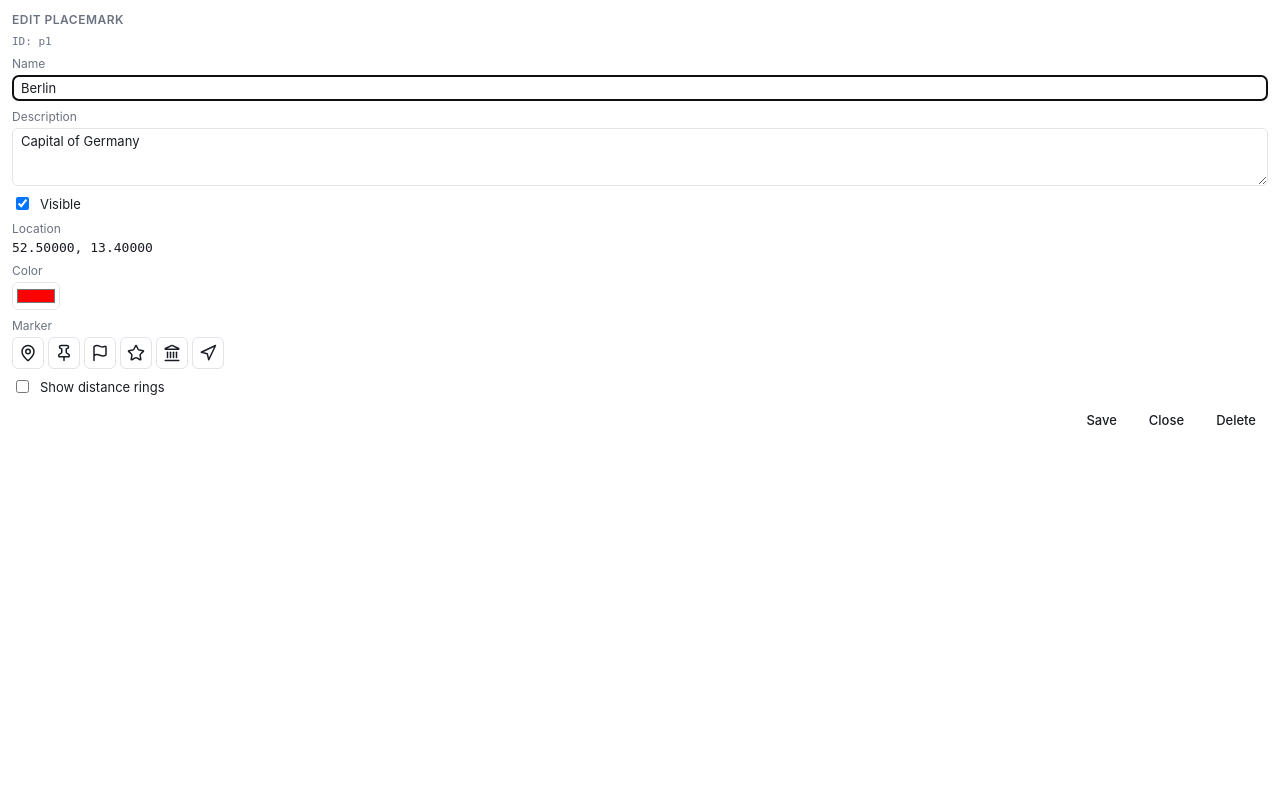
Test: PlacemarkEditor - close confirmation › Cancel dismisses the dialog and keeps editing
Type " Trip" into the field labelled "Name" at {"x": 640, "y": 88}, box [12,75,1268,101]
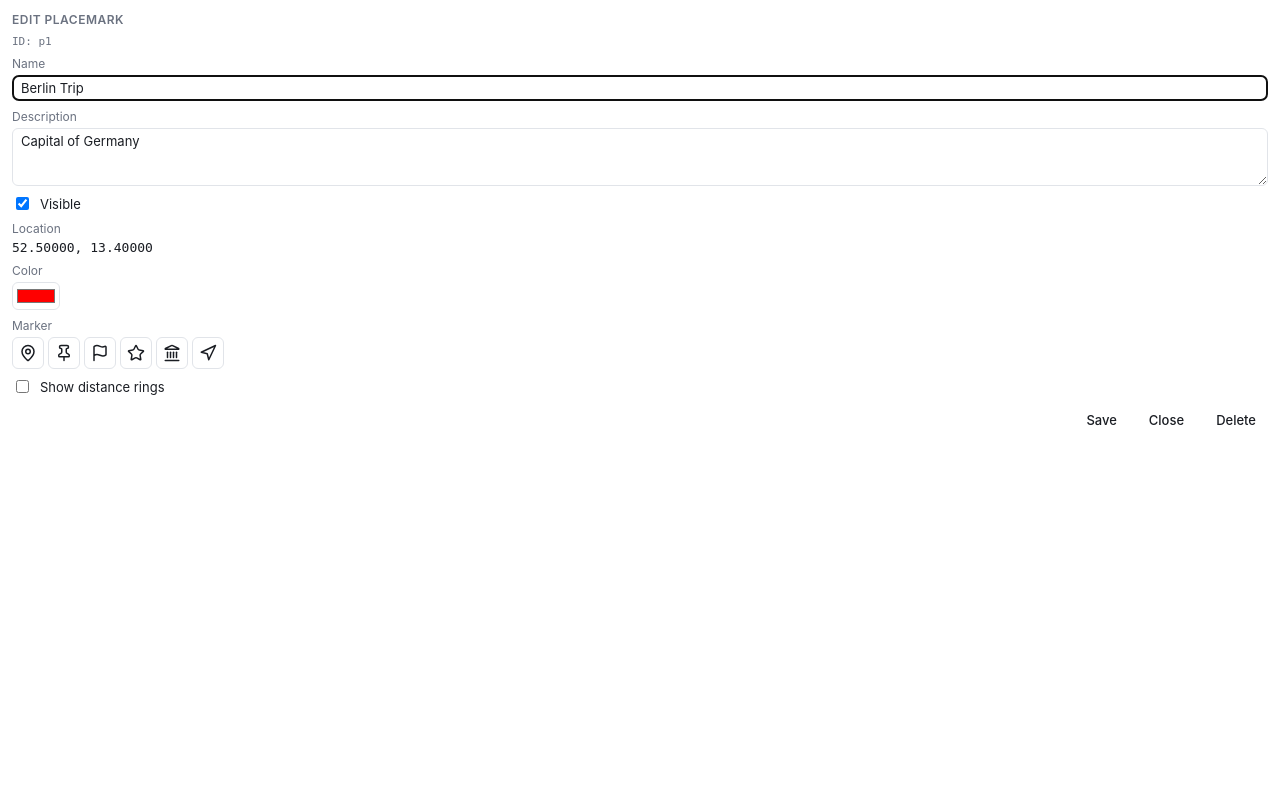
Click the button "Close" at {"x": 1166, "y": 420}, box [1137,404,1196,436]
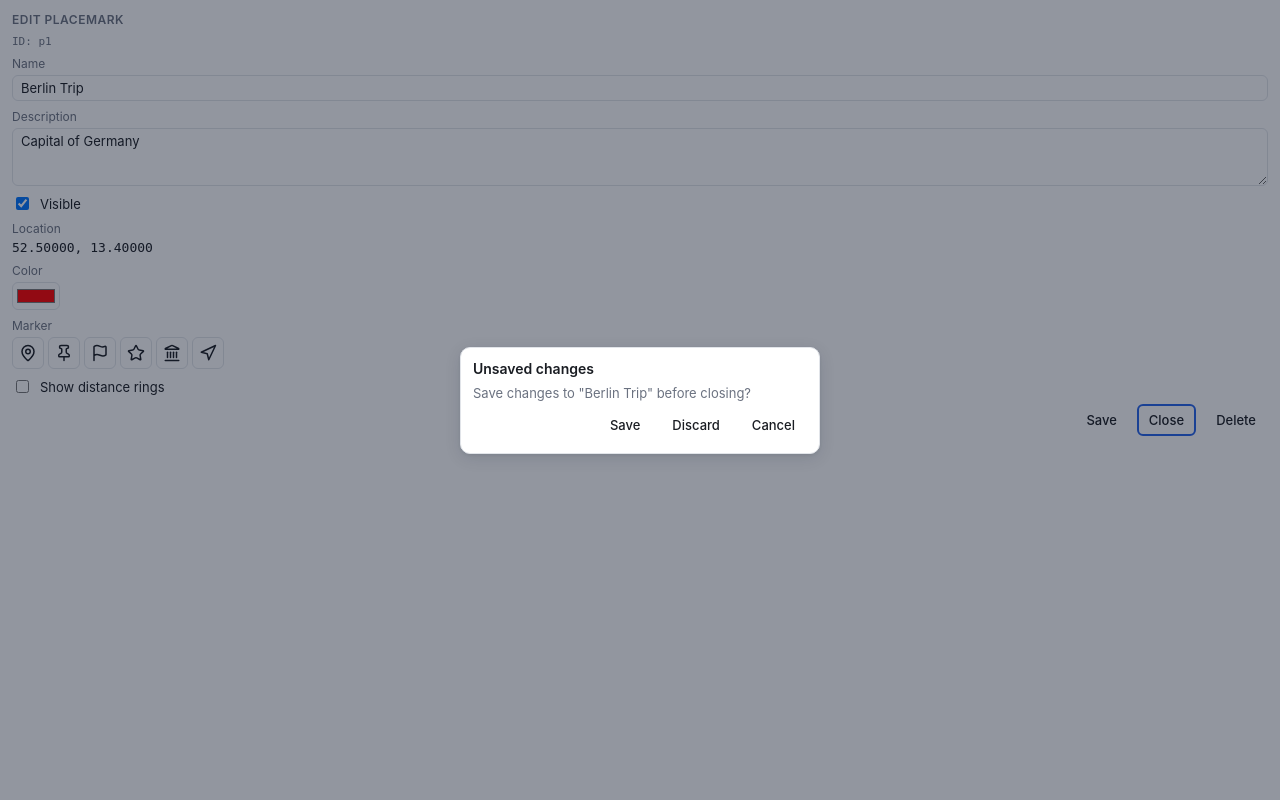
Click the button "Cancel" at {"x": 773, "y": 424}, box [740,408,807,440]
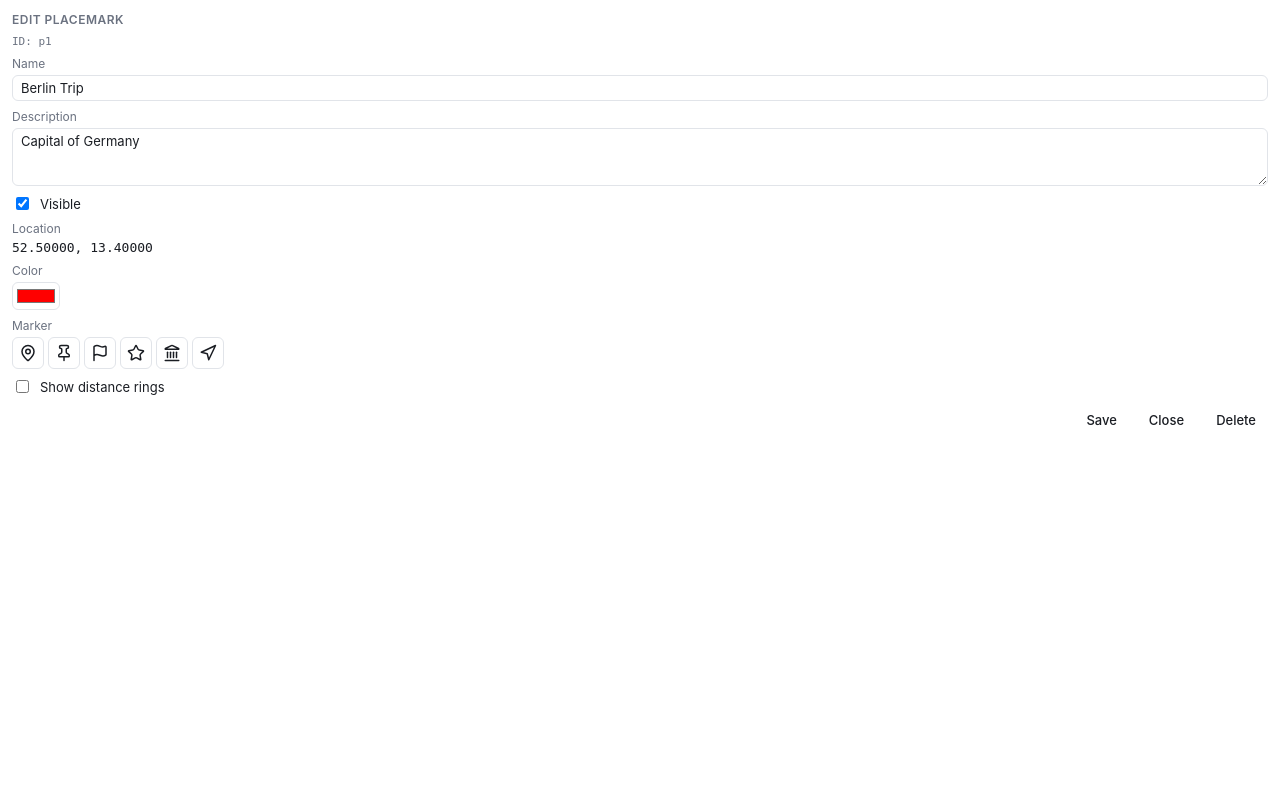
Expected: the field labelled "Name" holds "Berlin Trip", [12,75,1268,101]
Expected: the dialog is gone
